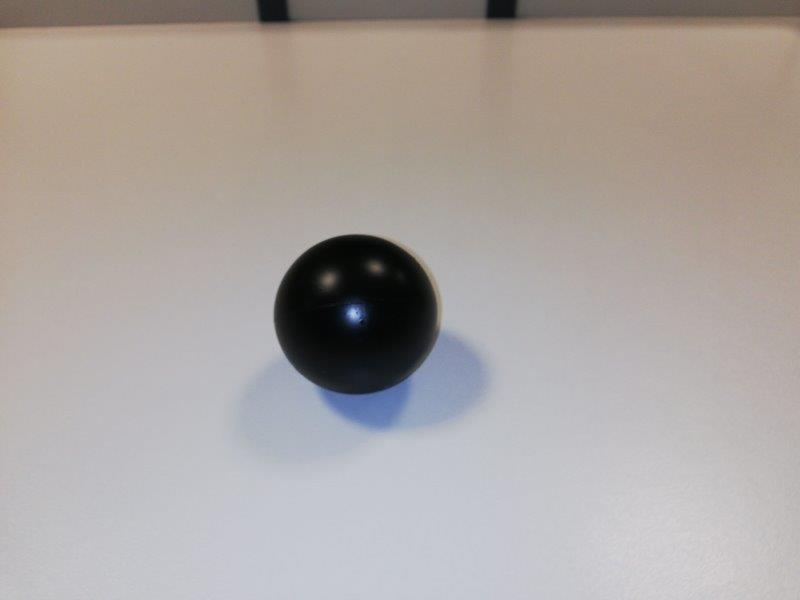nera: (270, 235, 442, 397)
